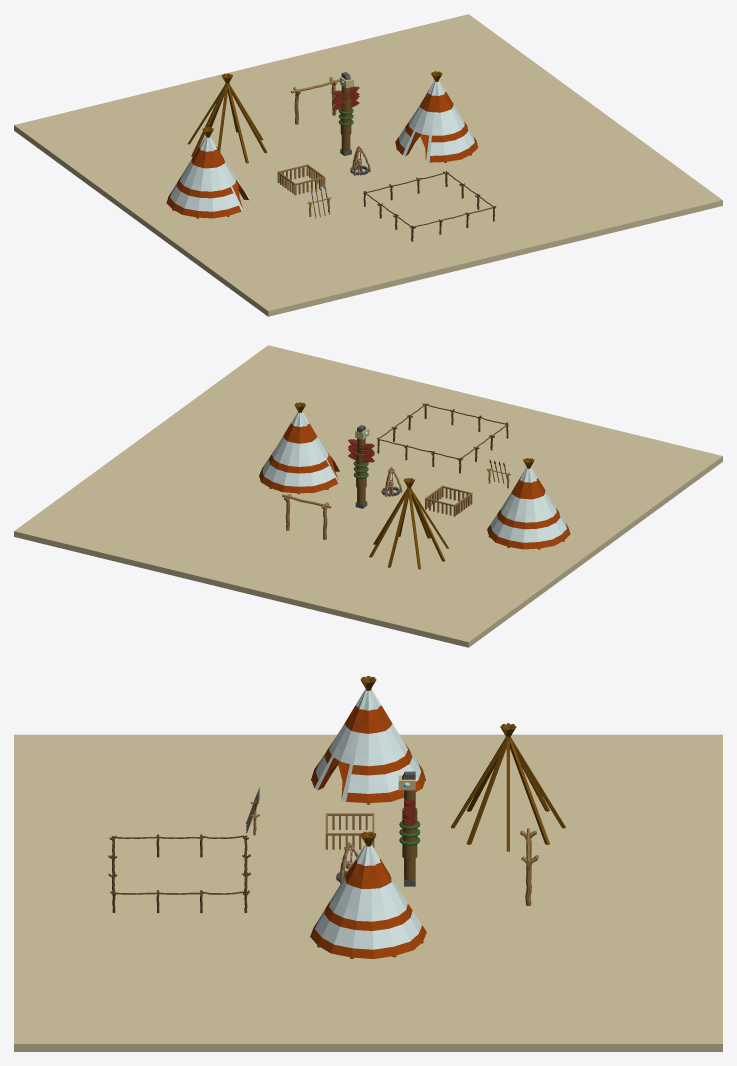
File: Indianerdorf.fbx
3 renders of one model, top to bottom at view 1: azimuth 30°, elevation 25°; view 2: azimuth 150°, elevation 25°; view 3: azimuth 270°, elevation 25°, orthographic. The views are drawn at different scales.
Visible parts, largest first — view 1: Cube.011, Cube.001, Cube.002, Cube.003, Cube.008, Cube.010, Cube.007; view 2: Cube.011, Cube.001, Cube.002, Cube.003, Cube.008, Cube.010, Cube.007; view 3: Cube.011, Cube.002, Cube.001, Cube.003, Cube.008, Cube.010, Cube.007.
Part boxes in pixels (x1=…): Cube.011: x1=14, y1=14, x2=722, y2=316; Cube.001: x1=166, y1=127, x2=249, y2=218; Cube.002: x1=395, y1=71, x2=477, y2=162; Cube.003: x1=187, y1=73, x2=267, y2=163; Cube.008: x1=332, y1=72, x2=359, y2=155; Cube.010: x1=363, y1=171, x2=496, y2=241; Cube.007: x1=277, y1=164, x2=325, y2=195; Cube.011: x1=14, y1=345, x2=722, y2=647; Cube.001: x1=487, y1=458, x2=570, y2=549; Cube.002: x1=259, y1=402, x2=339, y2=494; Cube.003: x1=369, y1=478, x2=448, y2=569; Cube.008: x1=348, y1=425, x2=374, y2=508; Cube.010: x1=377, y1=403, x2=508, y2=473; Cube.007: x1=425, y1=485, x2=472, y2=516; Cube.011: x1=14, y1=734, x2=722, y2=1051; Cube.002: x1=310, y1=831, x2=426, y2=958; Cube.001: x1=311, y1=676, x2=425, y2=804; Cube.003: x1=451, y1=723, x2=565, y2=851; Cube.008: x1=398, y1=771, x2=420, y2=886; Cube.010: x1=108, y1=834, x2=250, y2=913; Cube.007: x1=325, y1=813, x2=374, y2=849.
Size of the model in its own units: 1231 by 221 by 1192.
